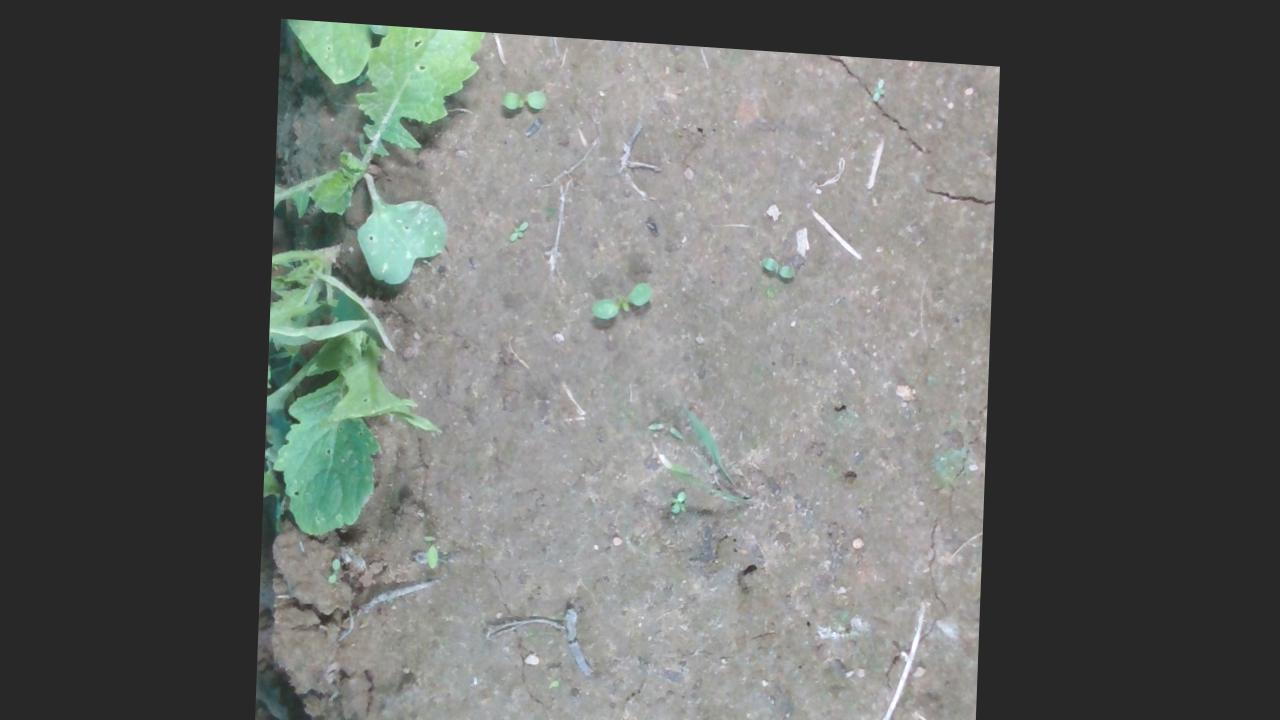weed: (589, 259, 658, 315), (650, 411, 689, 430)
